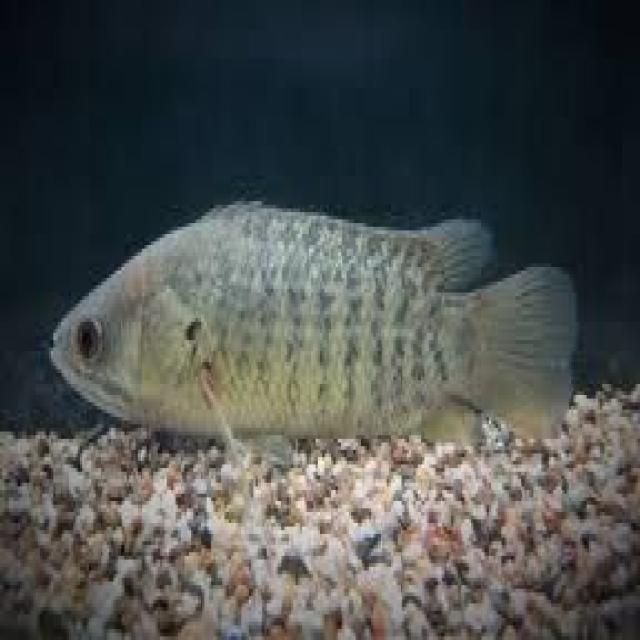Climbing-Perch: (24, 166, 611, 441)
